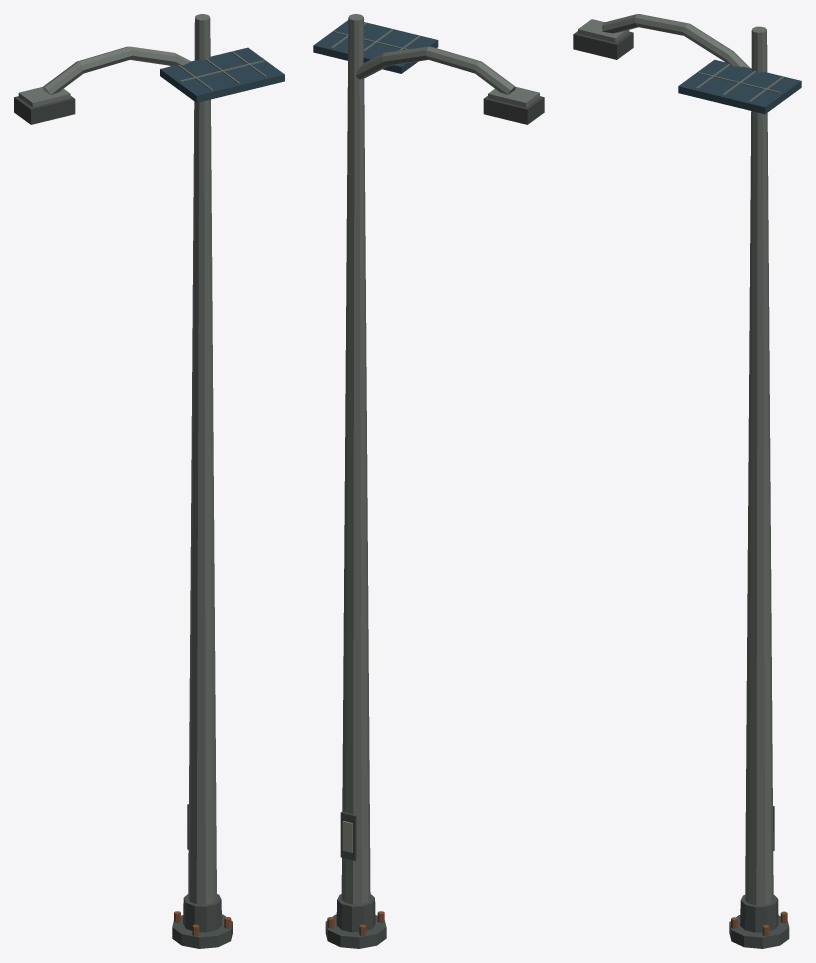
File: PH_Standalone_SolarStreetlight.obj
The picture shows the model from 3 angles, left to right: view 1: azimuth 30°, elevation 25°; view 2: azimuth 150°, elevation 25°; view 3: azimuth 330°, elevation 25°; orthographic projection.
Visible parts, largest first — view 1: PhilippinePole_Merged; view 2: PhilippinePole_Merged; view 3: PhilippinePole_Merged.
Part boxes in pixels (bbox=[...]): PhilippinePole_Merged: bbox=[14, 14, 284, 948]; PhilippinePole_Merged: bbox=[313, 14, 544, 948]; PhilippinePole_Merged: bbox=[573, 14, 801, 948].
Size of the model in its own units: 1.83 by 7.2 by 0.76.
1 material, 1 textured.
